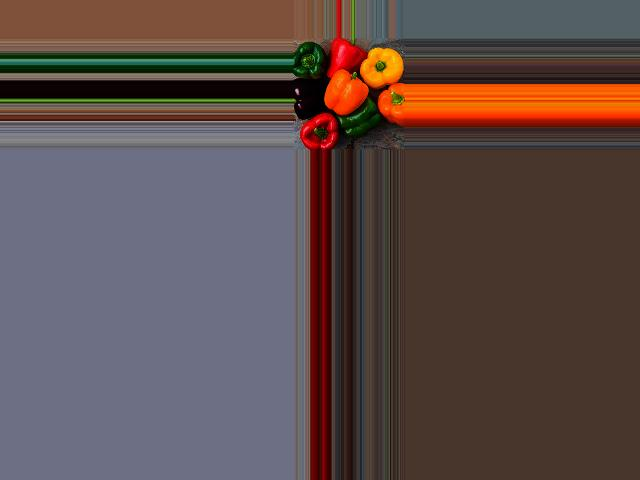bell_pepper: (368, 84, 404, 136)
